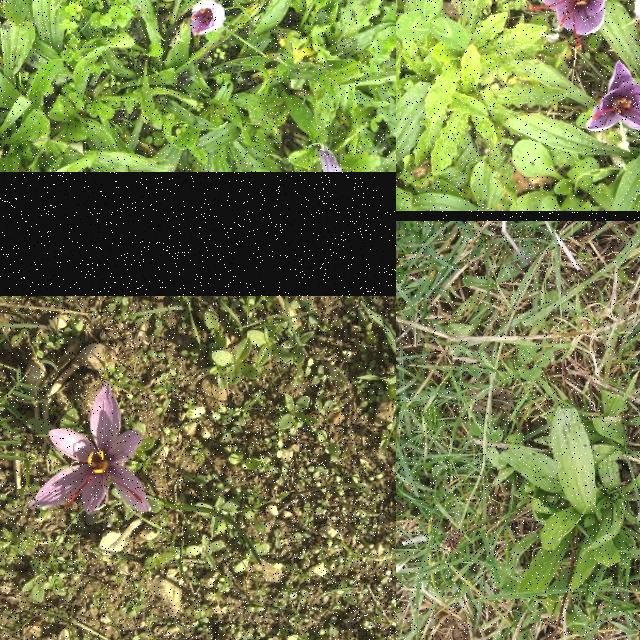flower: (30, 384, 152, 512), (585, 52, 640, 131), (588, 0, 640, 74), (530, 0, 607, 48), (190, 0, 225, 36)
